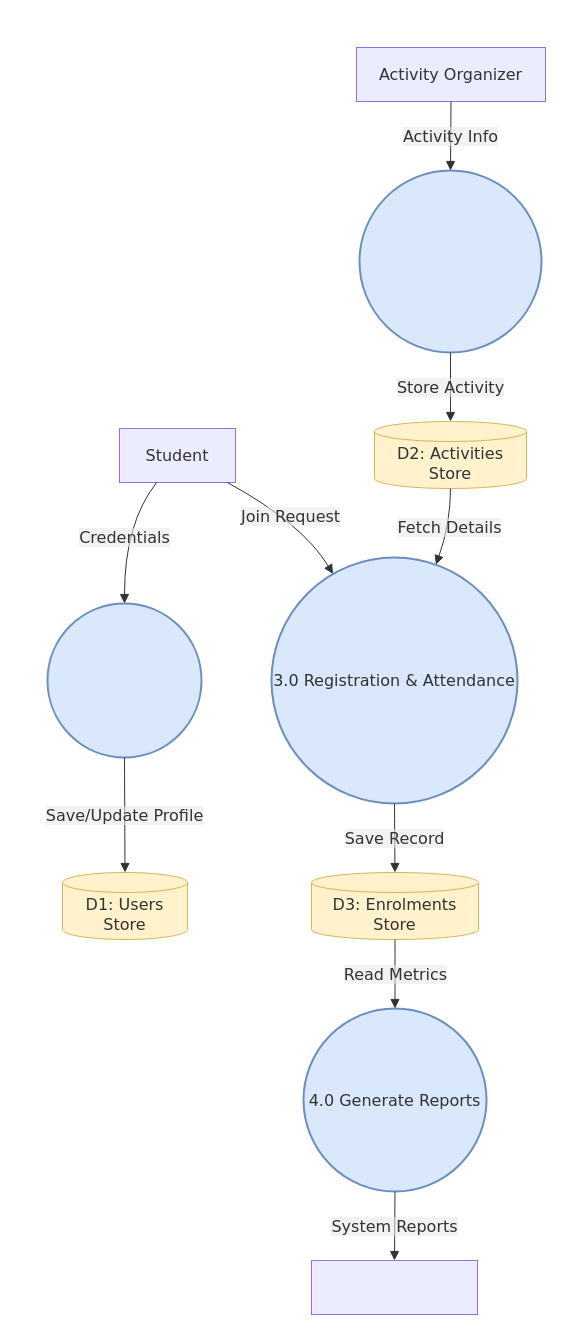
This 563x1332 diagram has some shape labels left out. The box of each missing label's shape, as (x1, y1, x2, y2) in pixels:
1.0 Manage Users: (46, 602, 202, 758)
2.0 Manage Activities: (358, 169, 542, 353)
Student Affairs: (310, 1260, 478, 1314)
